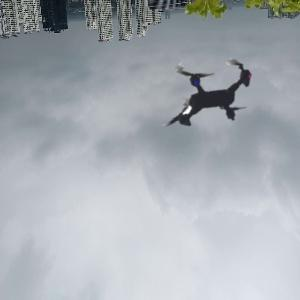drone: (134, 18, 286, 170)
